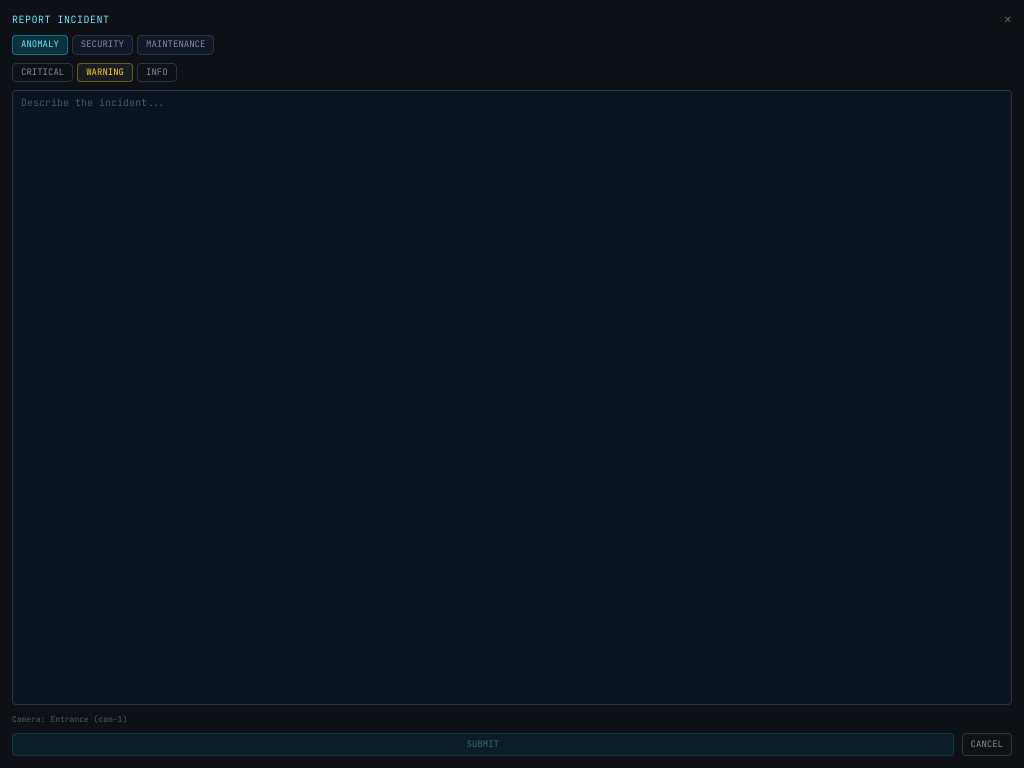
Test: IncidentReportForm › enables submit when description is filled
In the text box with test id "incident-description": (512, 397) [12, 90, 1012, 704], type "Suspicious activity"
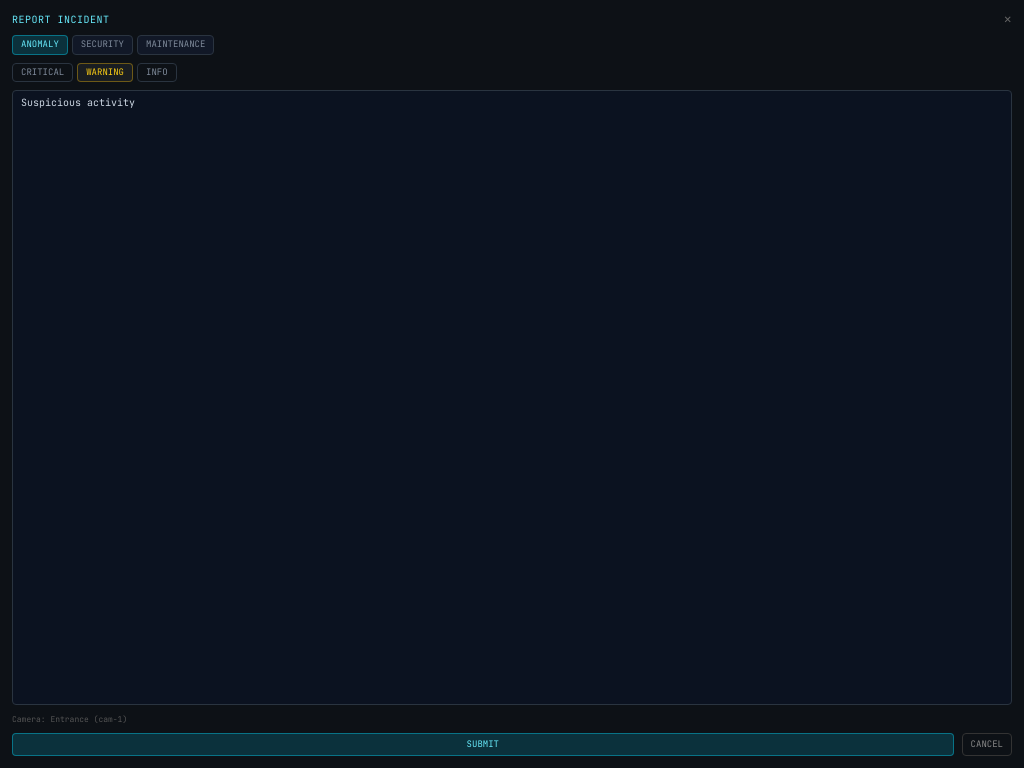
Check: the button with test id "incident-submit" is enabled, box [12, 732, 954, 756]
